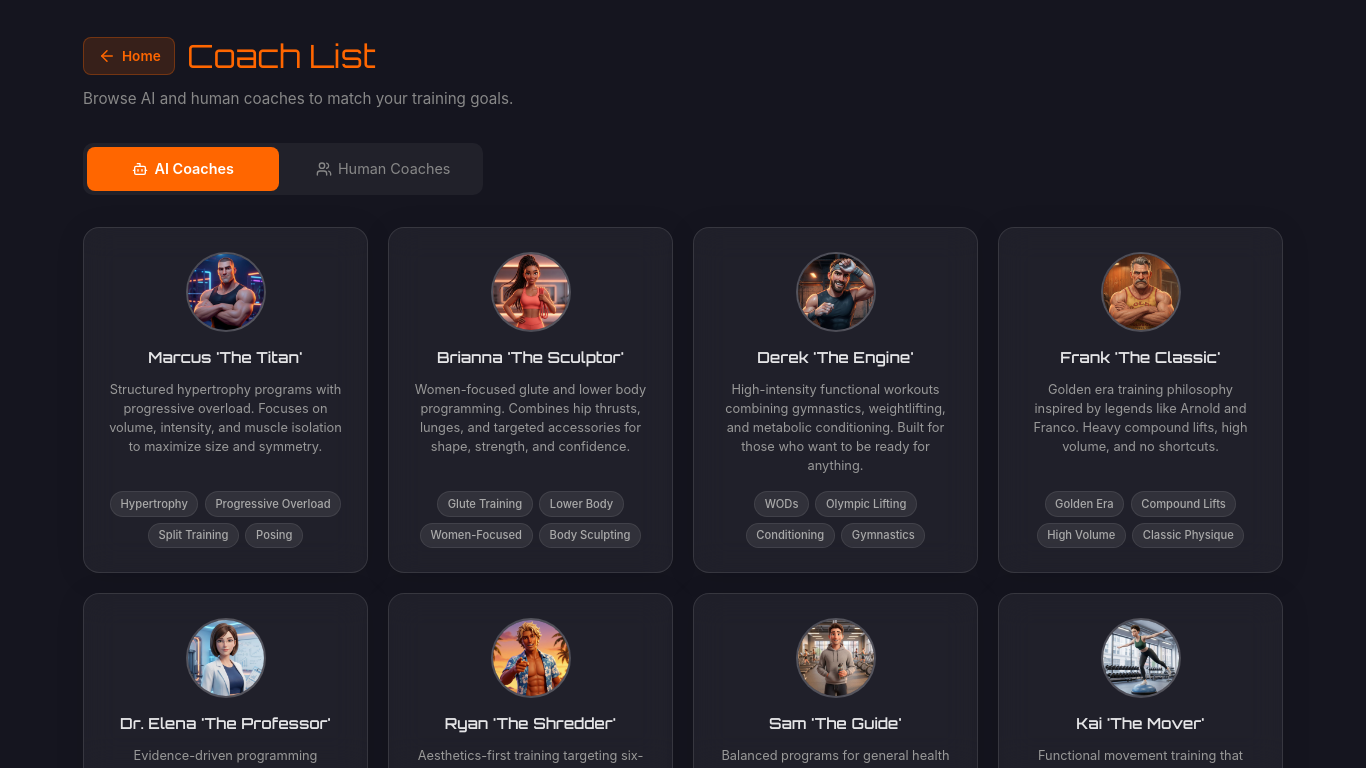
Scenario: CoachSelectionPage › allows switching selected coach
Click the button with test id "coach-card-bodybuilding".
click(226, 400)  # box [83,227,368,573]
(page scrolled)
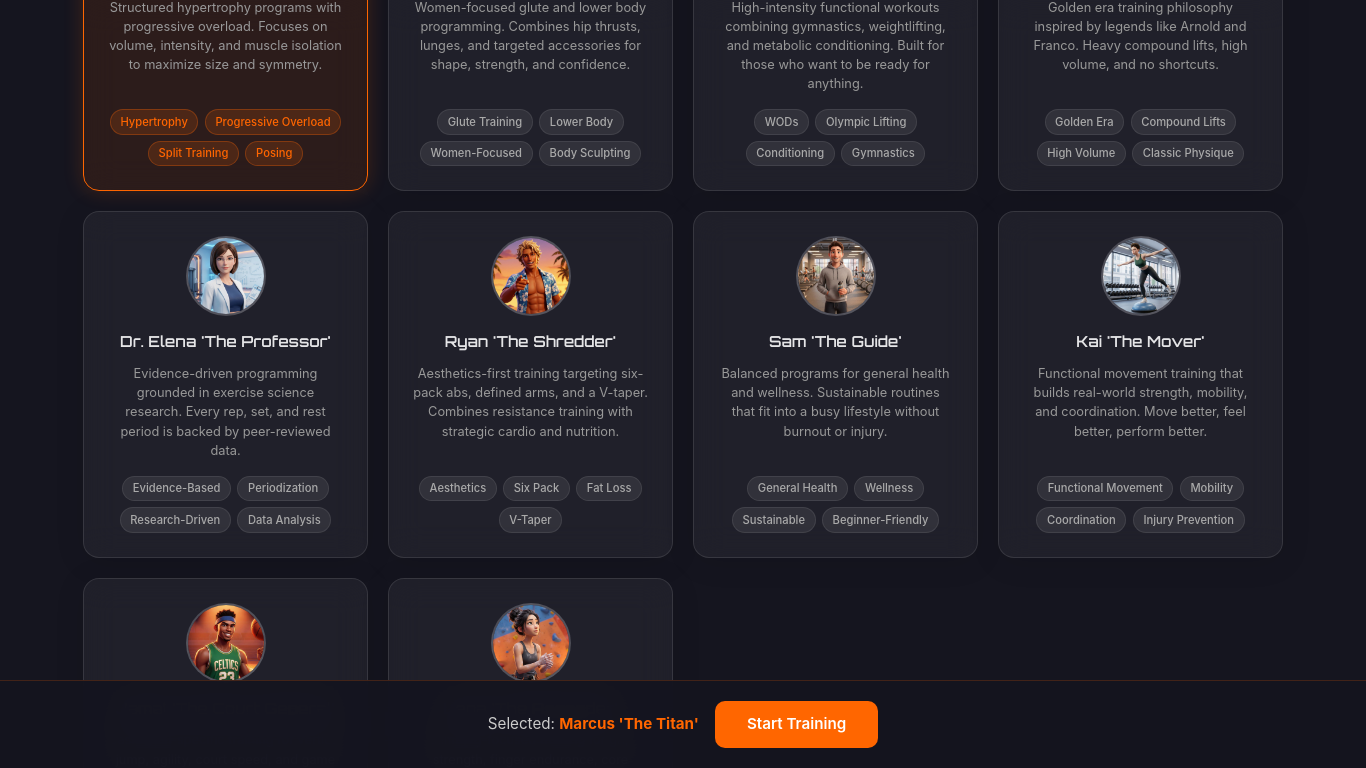
expect the text "Marcus 'The Titan'" is shown: met, box [559,714,699,733]
Click the button with test id "coach-card-science-based".
click(226, 384)  # box [83,211,368,558]
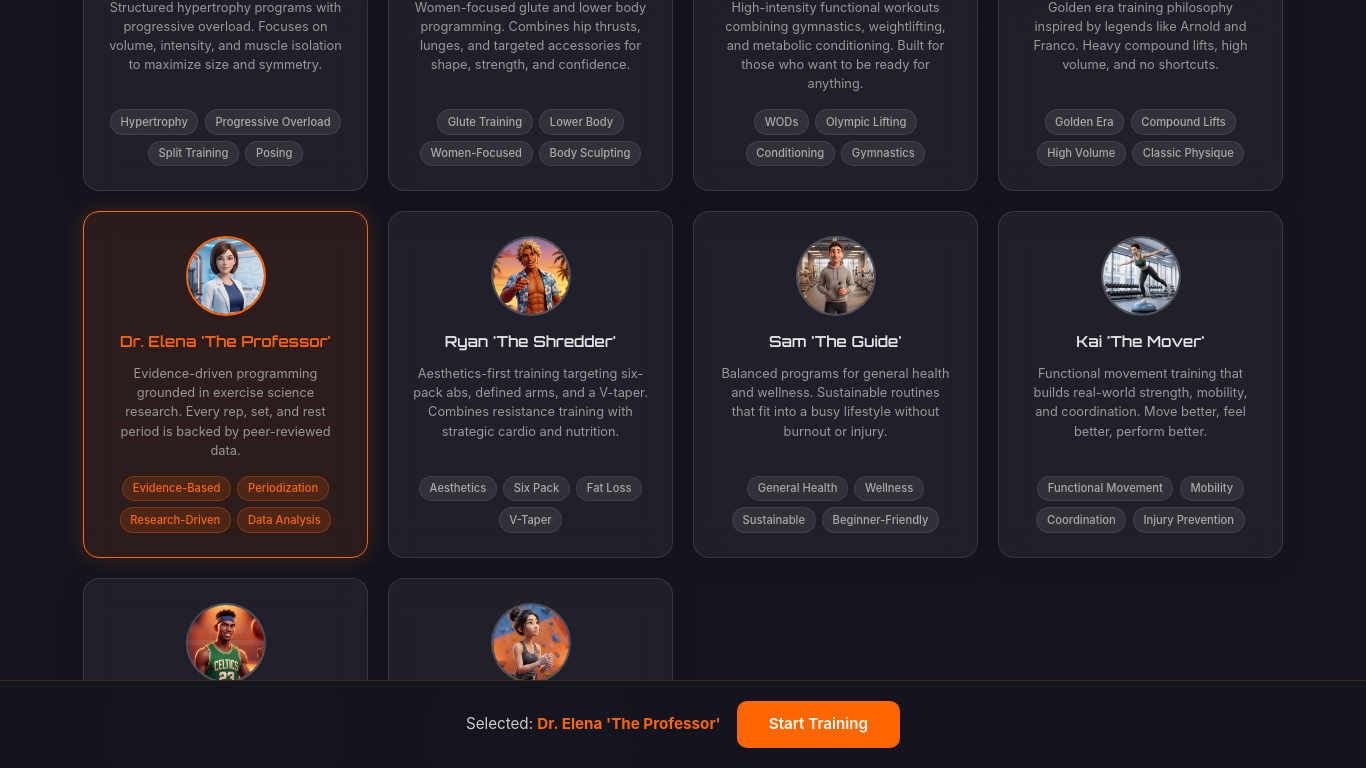
expect the text "Dr. Elena 'The Professor'" is shown: met, box [537,714,721,733]
